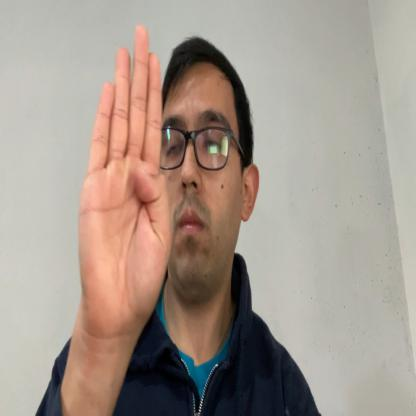B: (78, 22, 171, 338)
